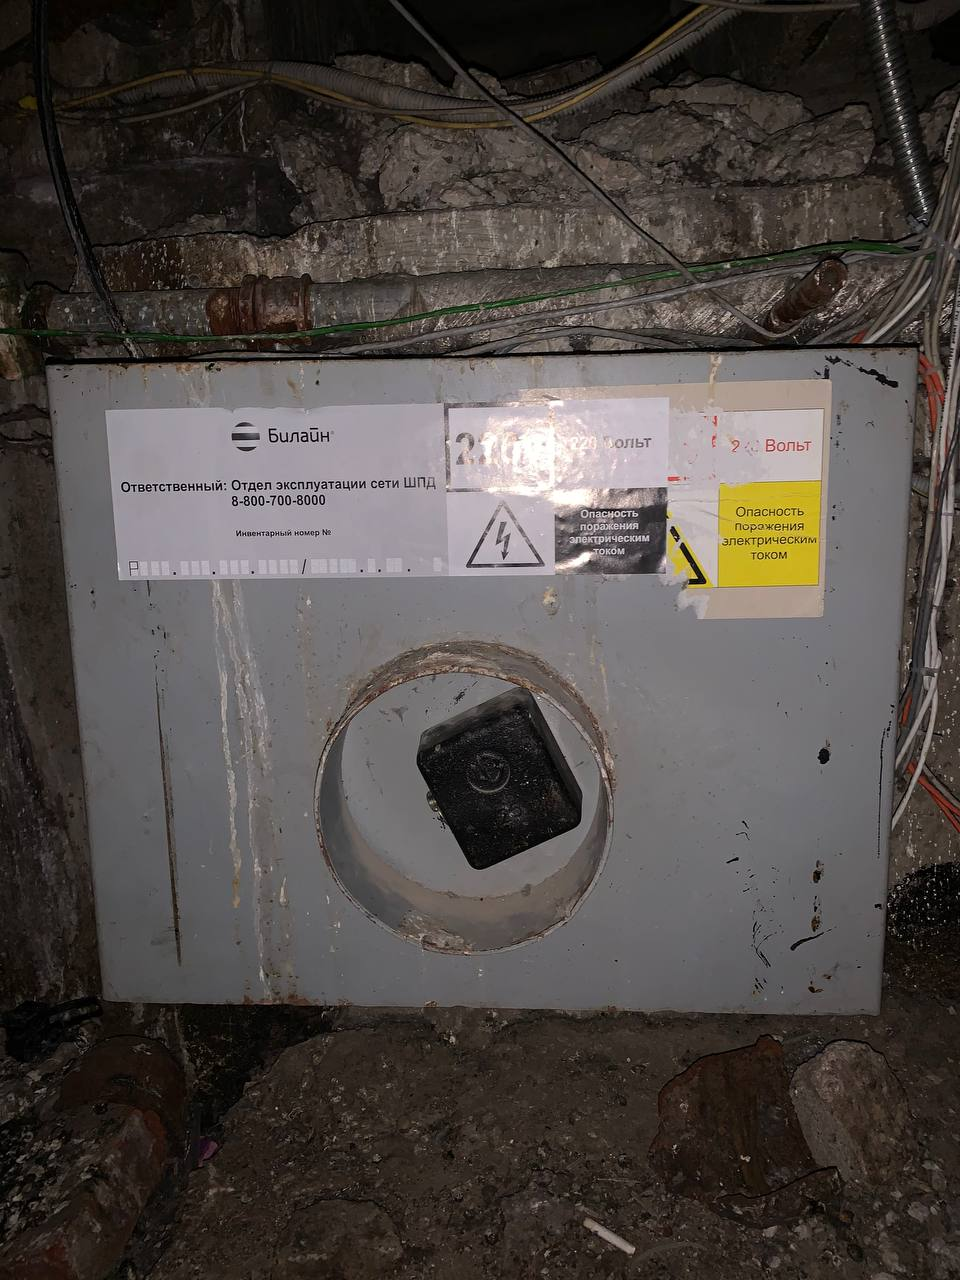shta-3: (46, 339, 925, 1021)
